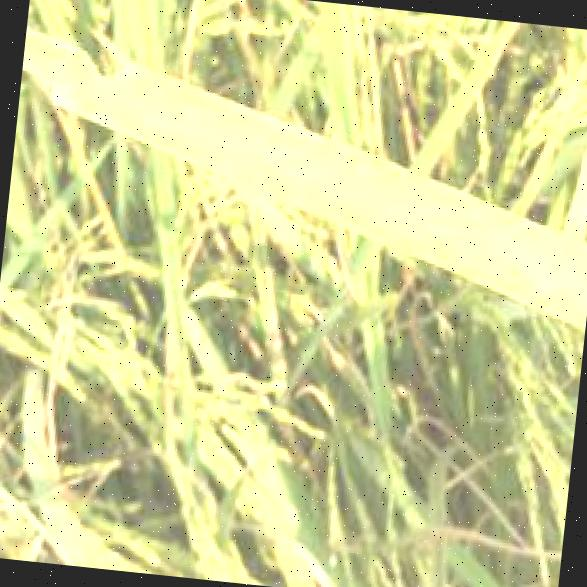Brown_Spot: (206, 126, 284, 173), (138, 119, 188, 153), (48, 73, 87, 102), (312, 172, 357, 195), (420, 244, 454, 268), (554, 300, 585, 326), (496, 254, 526, 280), (360, 146, 390, 170)
